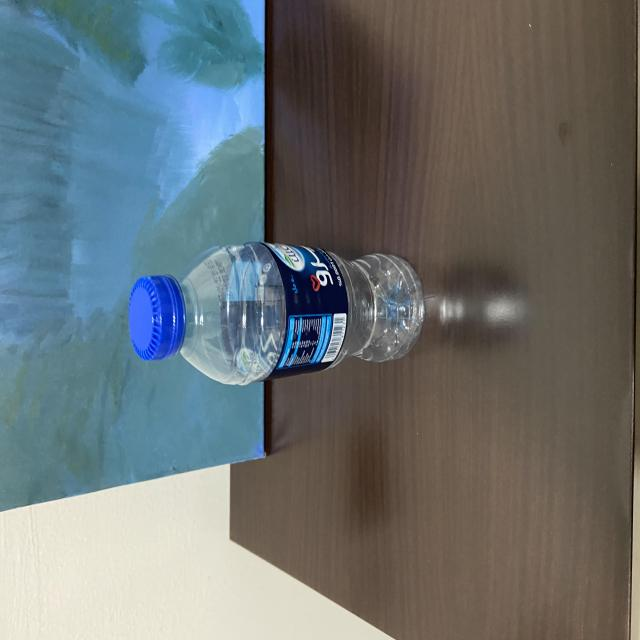plastic: (129, 238, 424, 388)
